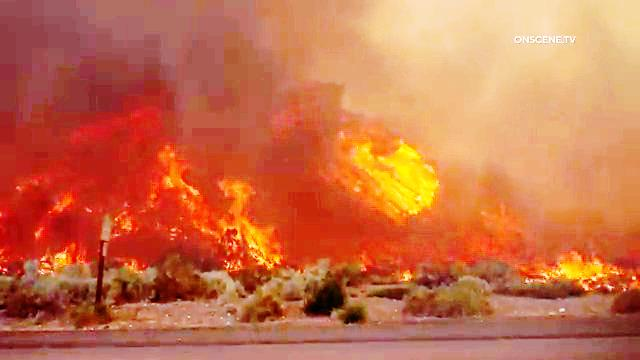fire: (128, 147, 277, 285), (330, 139, 442, 231), (526, 232, 627, 305)
smoke: (5, 6, 245, 148), (246, 6, 503, 133), (202, 79, 307, 160)
